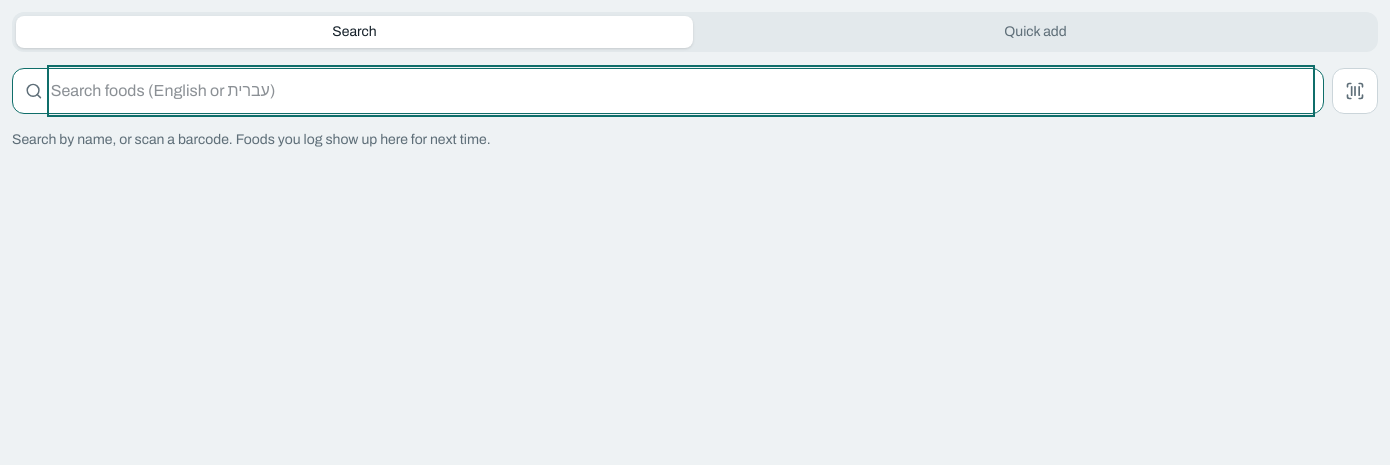
Scenario: AddFood › imports a database result before showing its detail
Type "hum" into the search field labelled "Search foods" at (681, 91), box top-left (51, 69), bottom-right (1311, 113)
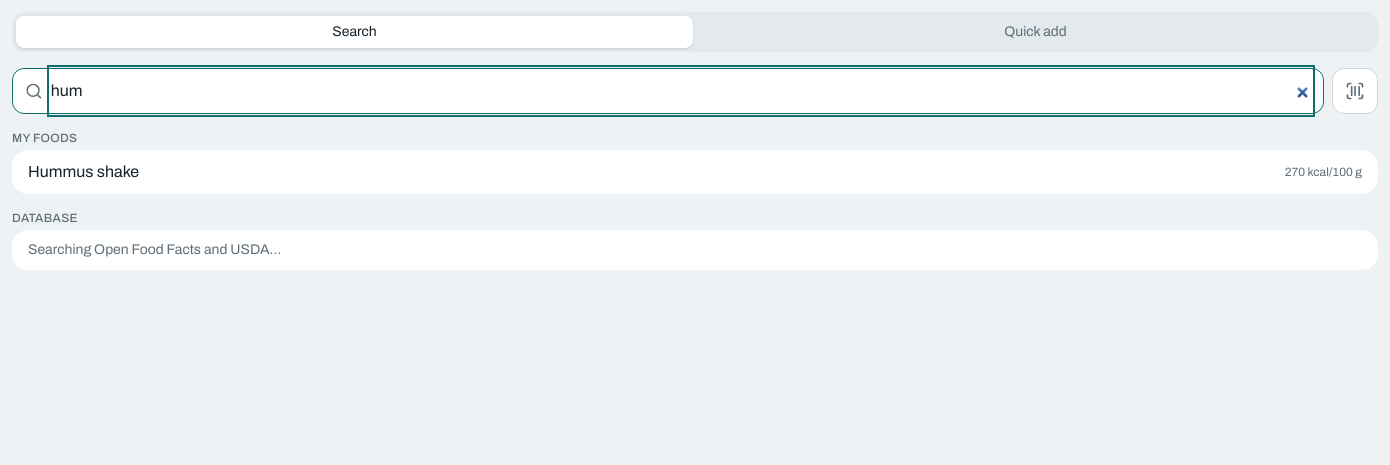
Press Enter
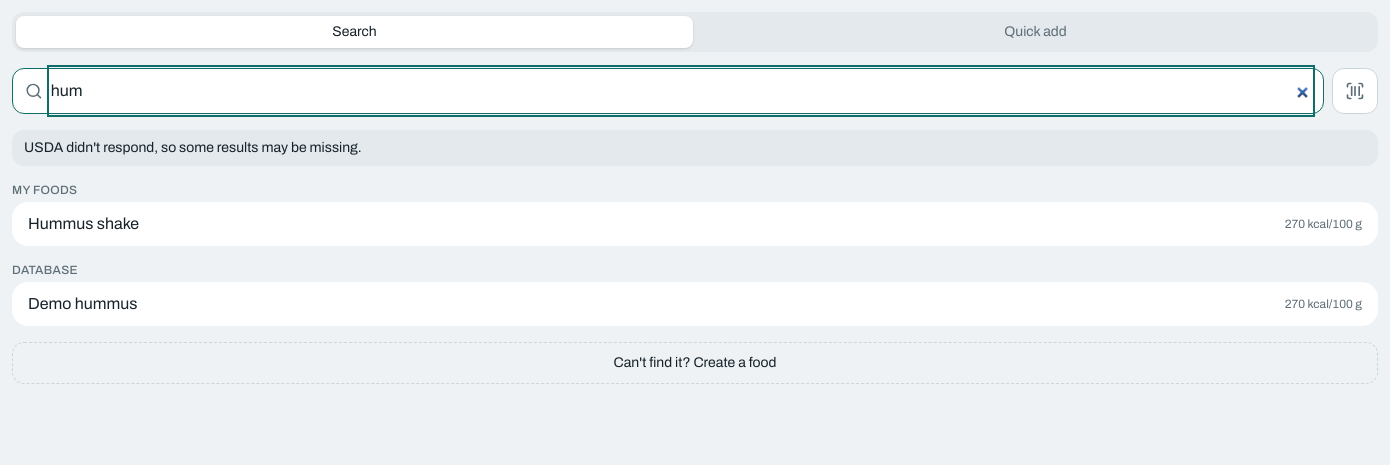
Click the text "Demo hummus" at (83, 304), box top-left (28, 292), bottom-right (137, 316)
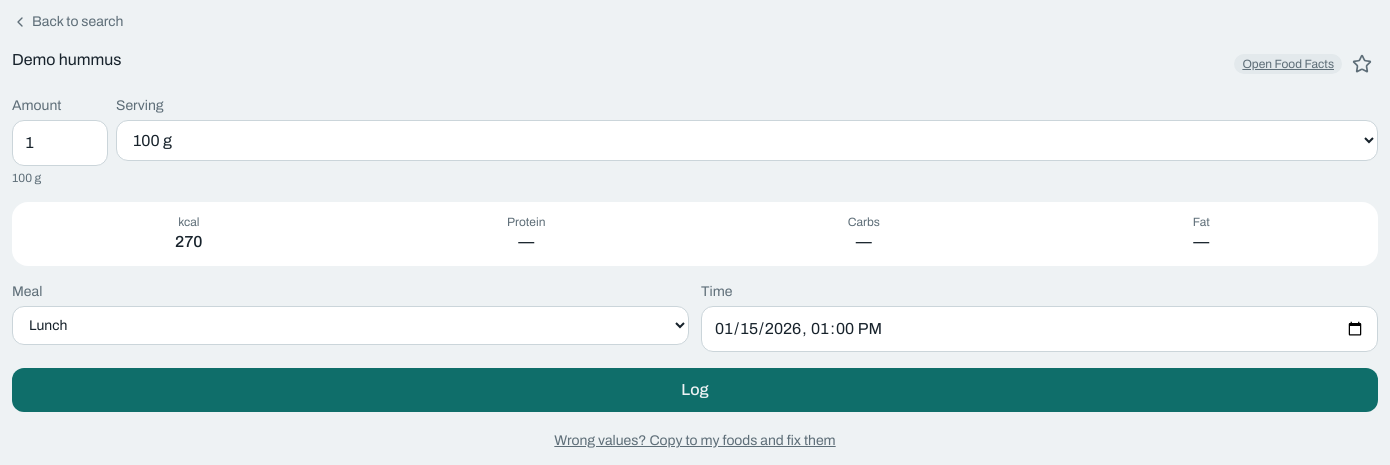
expect the button "Log" is shown: met, box top-left (12, 368), bottom-right (1378, 412)
